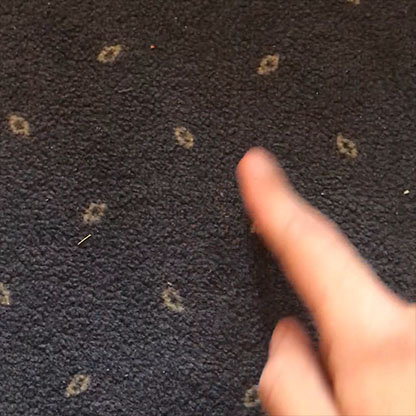fingertip: (226, 140, 290, 198)
